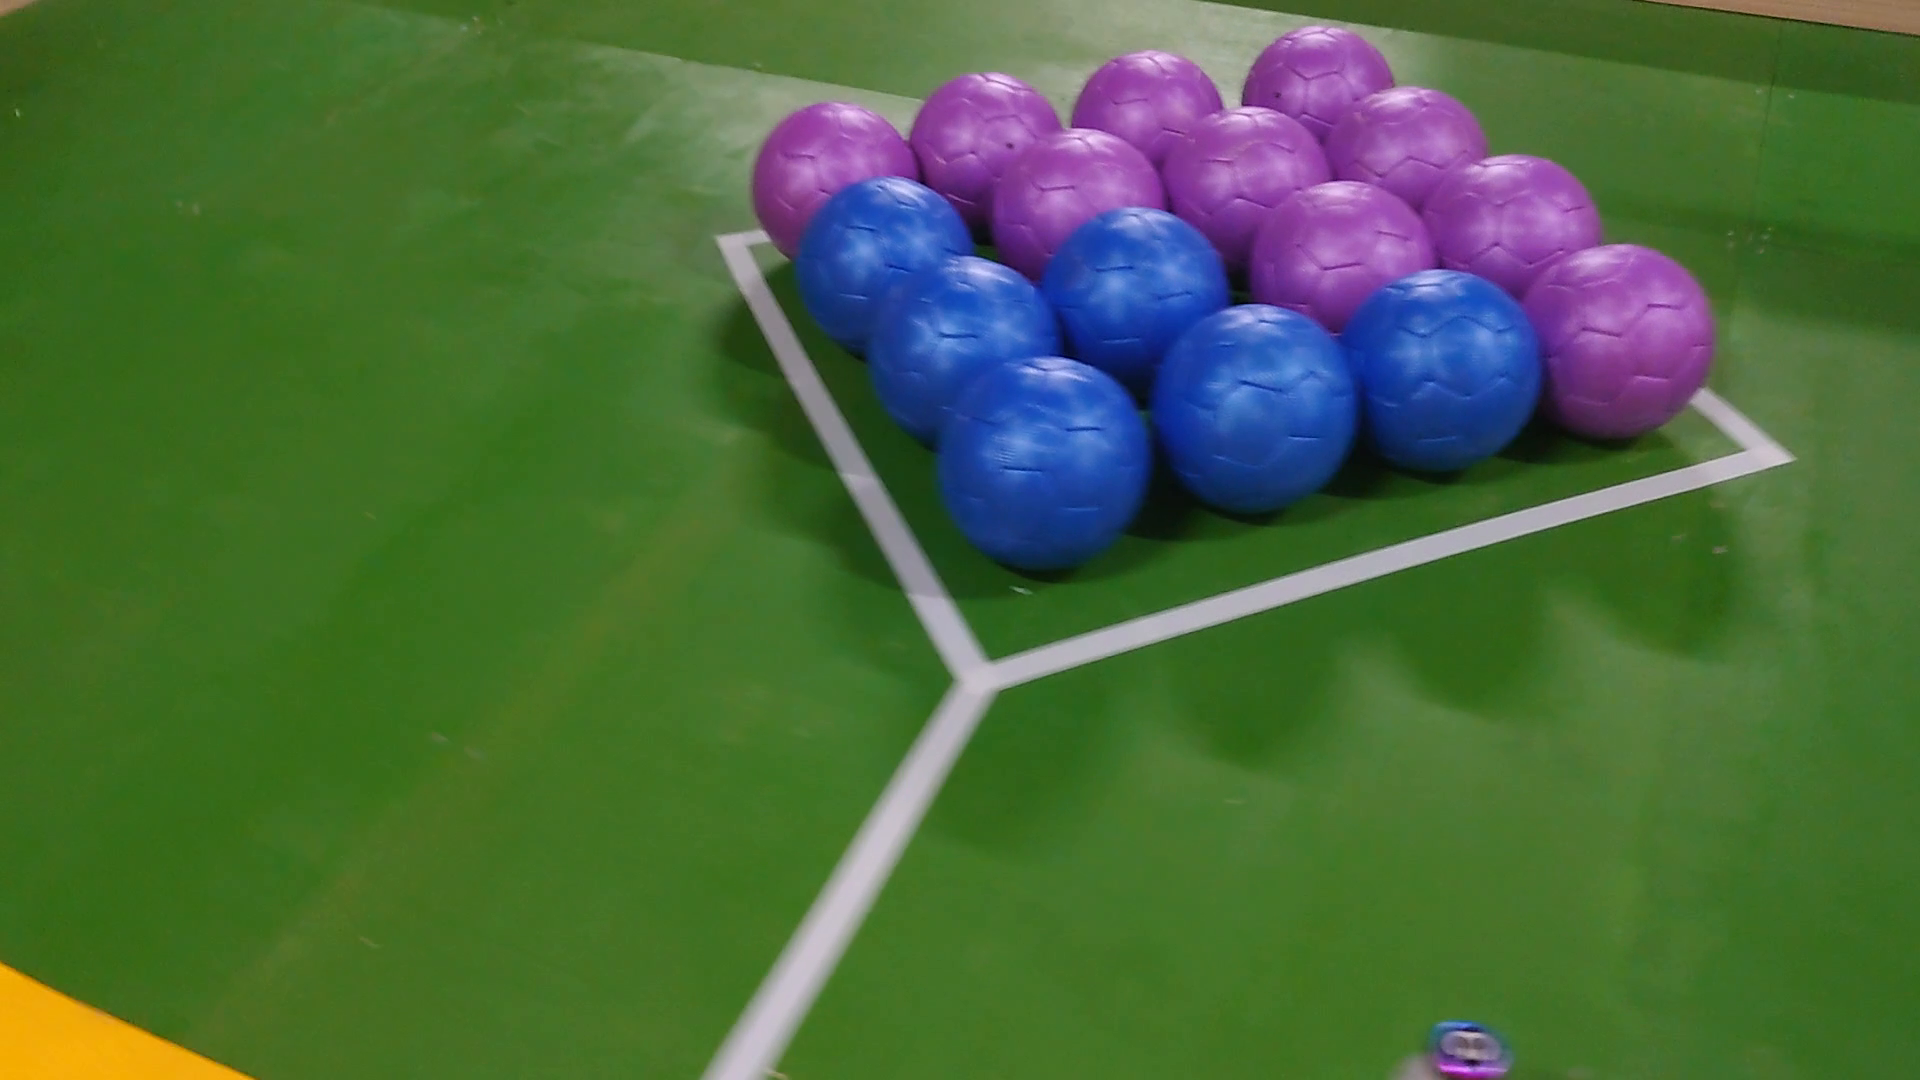blue: (934, 345, 1146, 575), (1163, 297, 1358, 516), (1342, 274, 1544, 483), (872, 248, 1055, 444), (800, 173, 969, 349), (1031, 212, 1228, 359)
purple: (1524, 239, 1721, 438), (752, 98, 920, 258), (1250, 179, 1433, 314), (989, 128, 1168, 265), (1424, 150, 1604, 277), (907, 69, 1068, 199), (1329, 82, 1495, 206), (1163, 108, 1329, 232), (1068, 46, 1228, 157), (1241, 29, 1391, 124)
